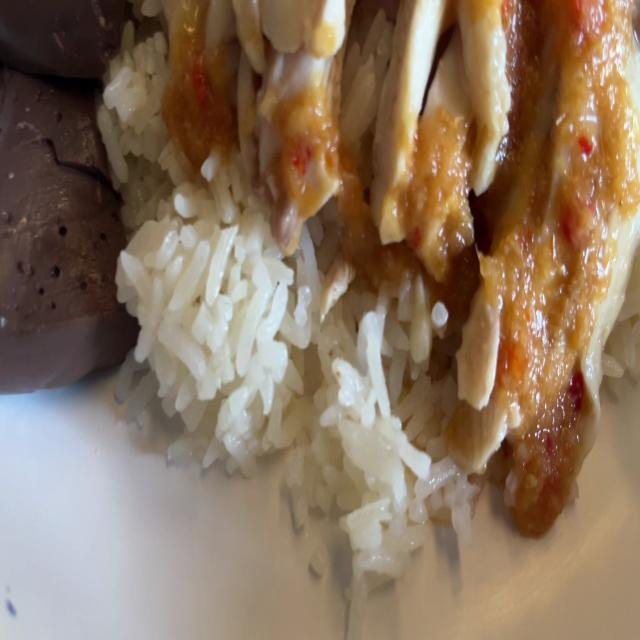boiled_chicken: (199, 0, 640, 399)
boiled_chicken_blood_jelly: (0, 0, 133, 376)
chicken_rice: (0, 0, 640, 555)
